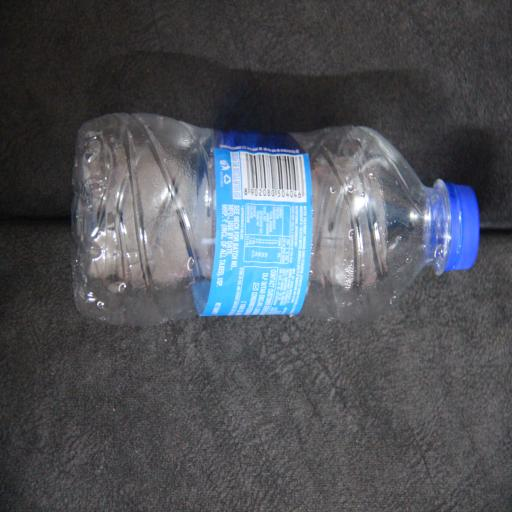Aquafina: (56, 24, 233, 512)
